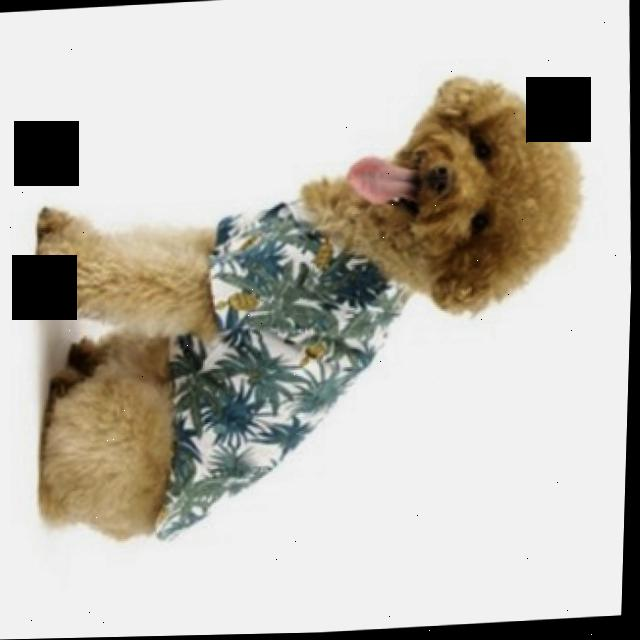cloth: (165, 204, 410, 538)
